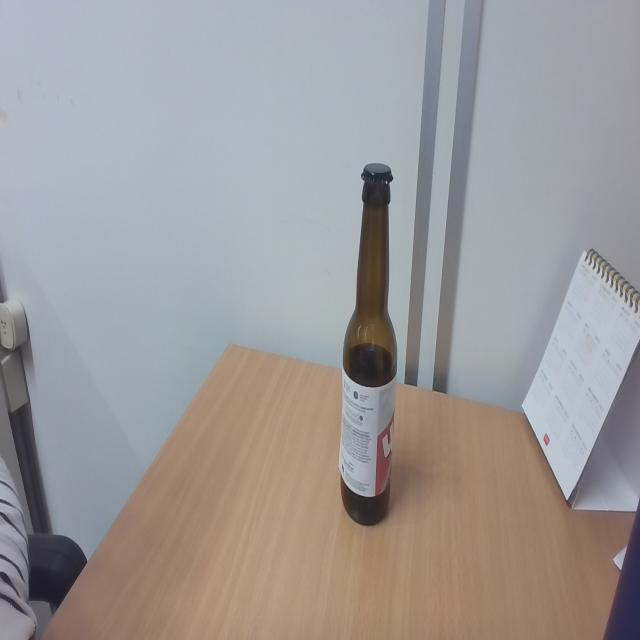Bottle: (341, 162, 396, 526)
Cap: (356, 163, 396, 190)
Label: (341, 378, 395, 498)
